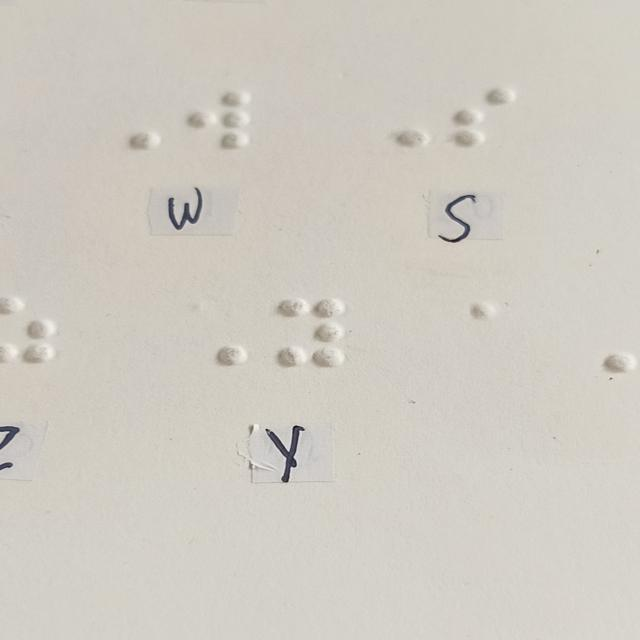S: (455, 89, 515, 145)
W: (186, 87, 248, 151)
Y: (280, 295, 343, 367)
capital: (185, 295, 248, 367), (105, 87, 162, 151), (370, 92, 431, 148)
